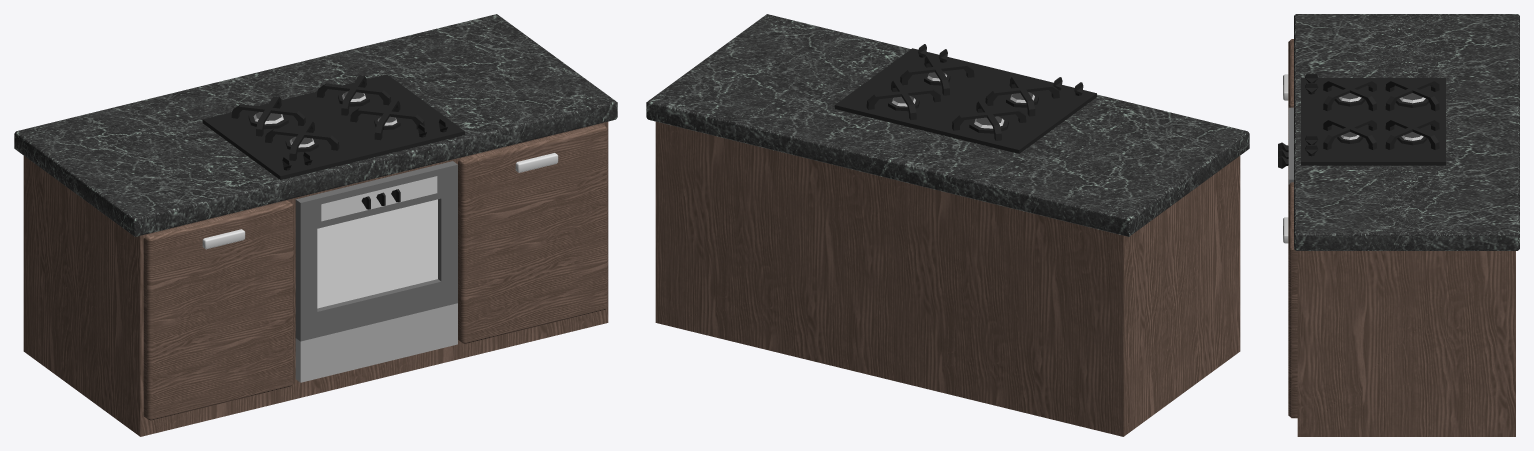
Rendered from kitchen_007.fbx.
3 renders of one model, left to right at view 1: azimuth 30°, elevation 25°; view 2: azimuth 150°, elevation 25°; view 3: azimuth 270°, elevation 25°, orthographic. The views are drawn at different scales.
Visible parts, largest first — view 1: kitchen_007; view 2: kitchen_007; view 3: kitchen_007.
Boxes of the visible parts, box(x1,y1,x2,y2) form: kitchen_007: box(14, 14, 617, 436); kitchen_007: box(646, 14, 1249, 436); kitchen_007: box(1278, 14, 1519, 436).
Size of the model in its own units: 239 by 111 by 112.
